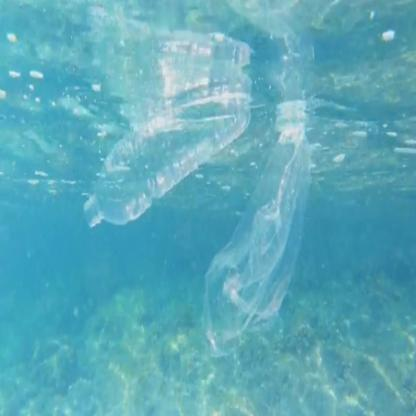Rác: (78, 56, 237, 233), (220, 120, 358, 318)
